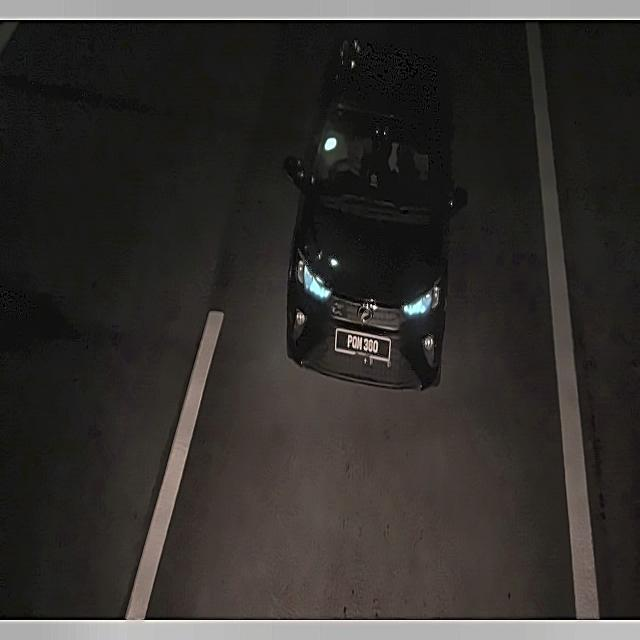car: (334, 326, 396, 367)
